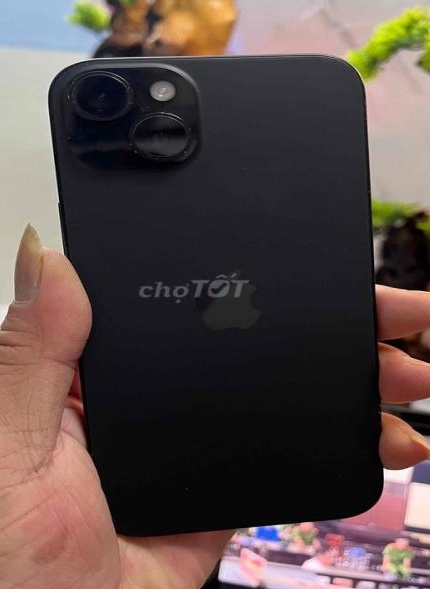scratch: (62, 70, 205, 169)
